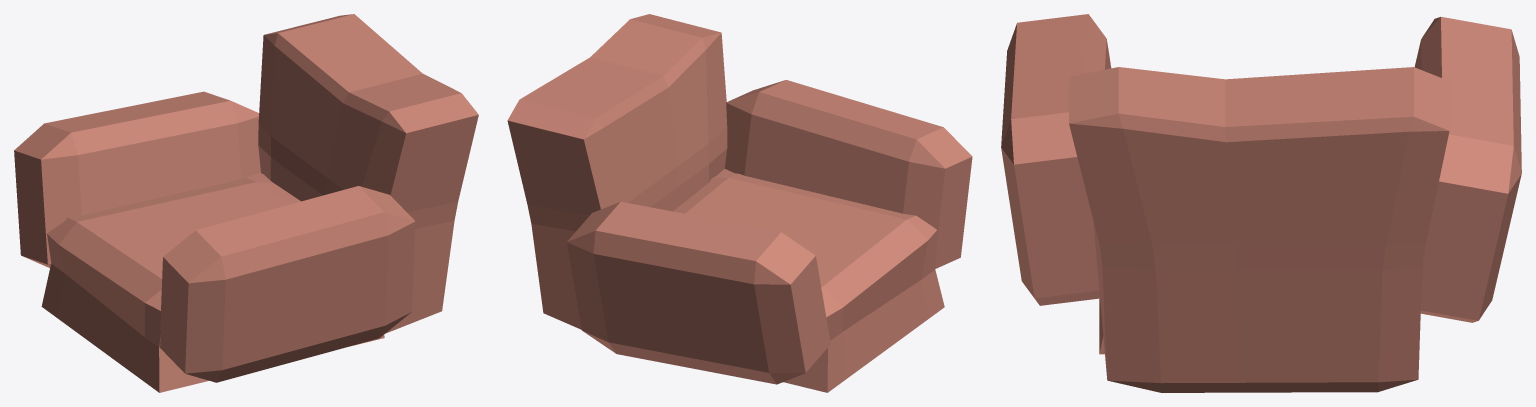
File: couch2_brown.fbx
The picture shows the model from 3 angles, left to right: view 1: azimuth 30°, elevation 25°; view 2: azimuth 150°, elevation 25°; view 3: azimuth 270°, elevation 25°; orthographic projection. The views are drawn at different scales.
Visible parts, largest first — view 1: Cube.001; view 2: Cube.001; view 3: Cube.001.
Boxes of the visible parts, x1=… form: Cube.001: x1=14, y1=14, x2=478, y2=392; Cube.001: x1=507, y1=14, x2=972, y2=392; Cube.001: x1=1001, y1=14, x2=1521, y2=392.
Bounding box in the file's own units: 311 × 209 × 331.
